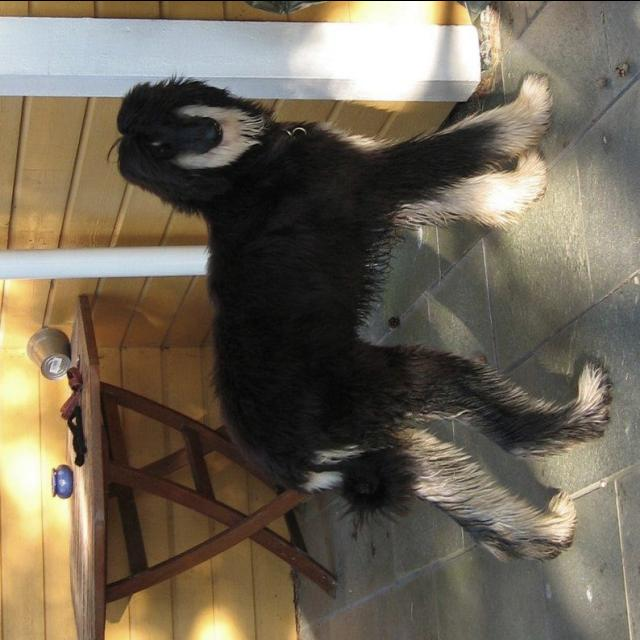afghan_hound: (101, 68, 617, 568)
